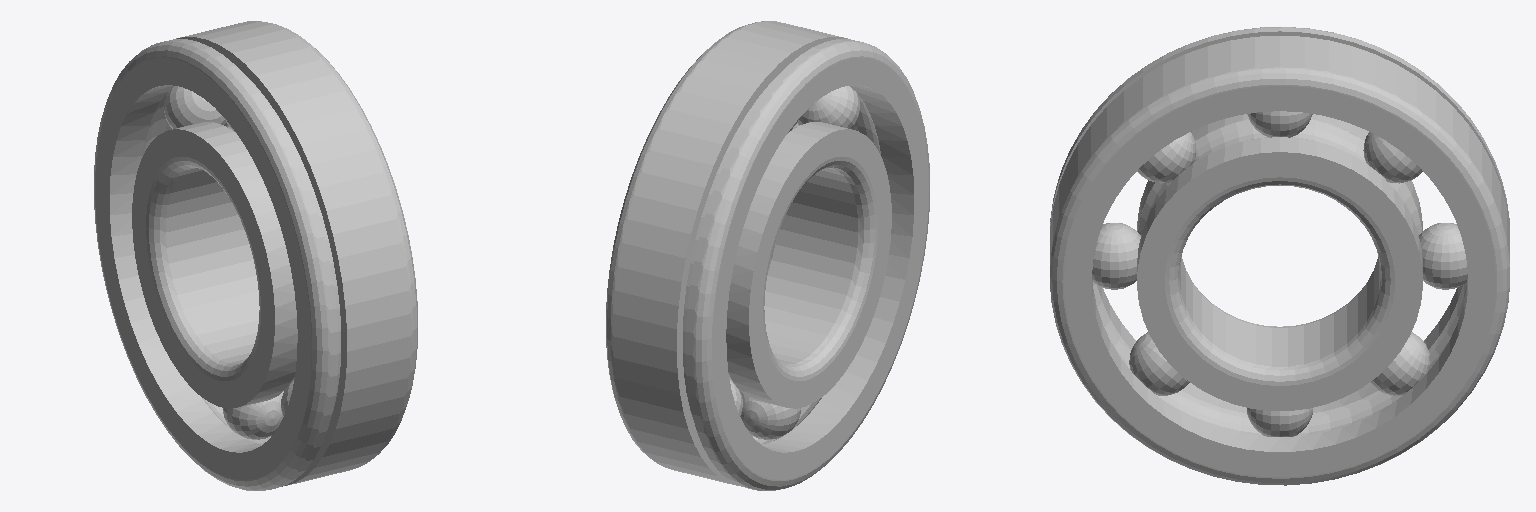
File: Подшипник 307 ГОСТ 8338-75.obj
3 views of the same model, side by side, from view 1: azimuth 30°, elevation 25°; view 2: azimuth 150°, elevation 25°; view 3: azimuth 270°, elevation 25° (orthographic).
Visible parts, largest first — view 1: Solid1; view 2: Solid1; view 3: Solid1.
Part boxes in pixels (left/top/right/bottom): Solid1: left=94, top=21, right=417, bottom=490; Solid1: left=606, top=21, right=929, bottom=490; Solid1: left=1050, top=27, right=1509, bottom=485.
Size of the model in its own units: 21 by 79.94 by 79.97.